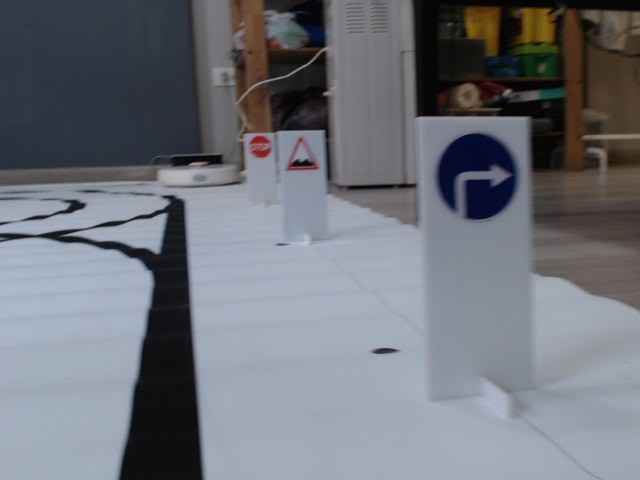Nerov: (286, 136, 319, 172)
Right: (437, 131, 519, 223)
Stop: (247, 136, 272, 157)
